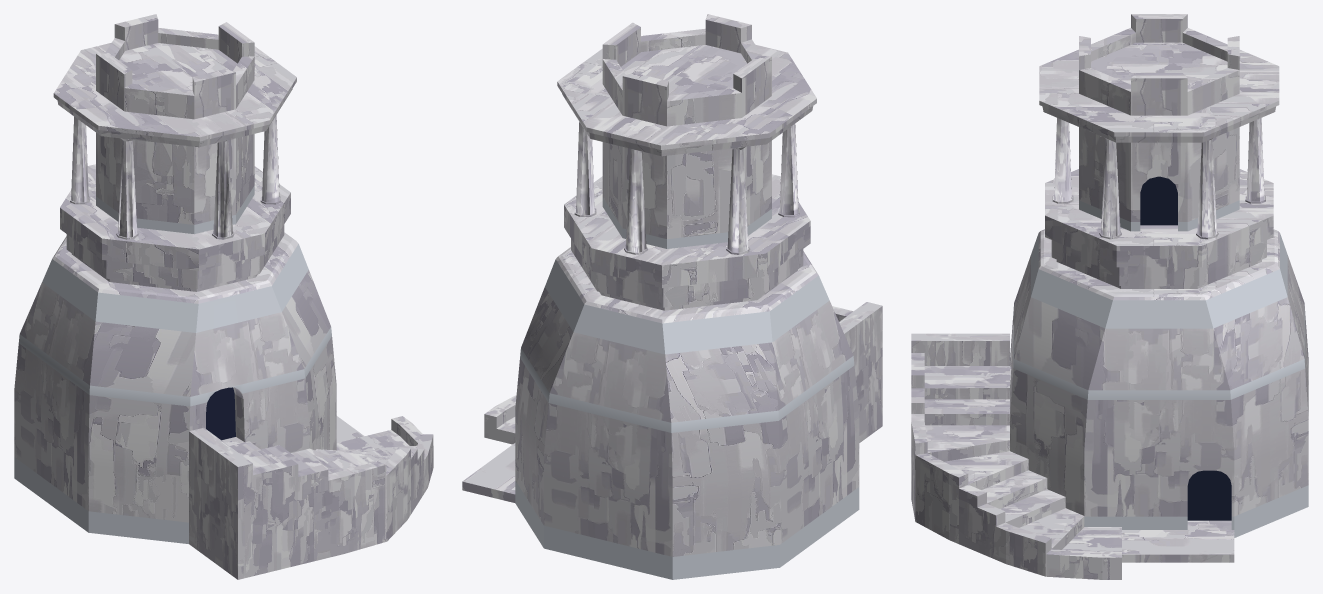
The model's file is TowerBlockout_002.fbx.
The picture shows the model from 3 angles, left to right: view 1: azimuth 30°, elevation 25°; view 2: azimuth 150°, elevation 25°; view 3: azimuth 270°, elevation 25°; orthographic projection. The views are drawn at different scales.
Parts seen in each view (by area): view 1: Cube.001; view 2: Cube.001; view 3: Cube.001.
Boxes of the visible parts, x1,y1,x2,y2 form: Cube.001: (14,14,433,579); Cube.001: (462,14,882,579); Cube.001: (911,14,1308,579).
Size of the model in its own units: 268 by 329 by 275.
3 materials, 1 textured.
